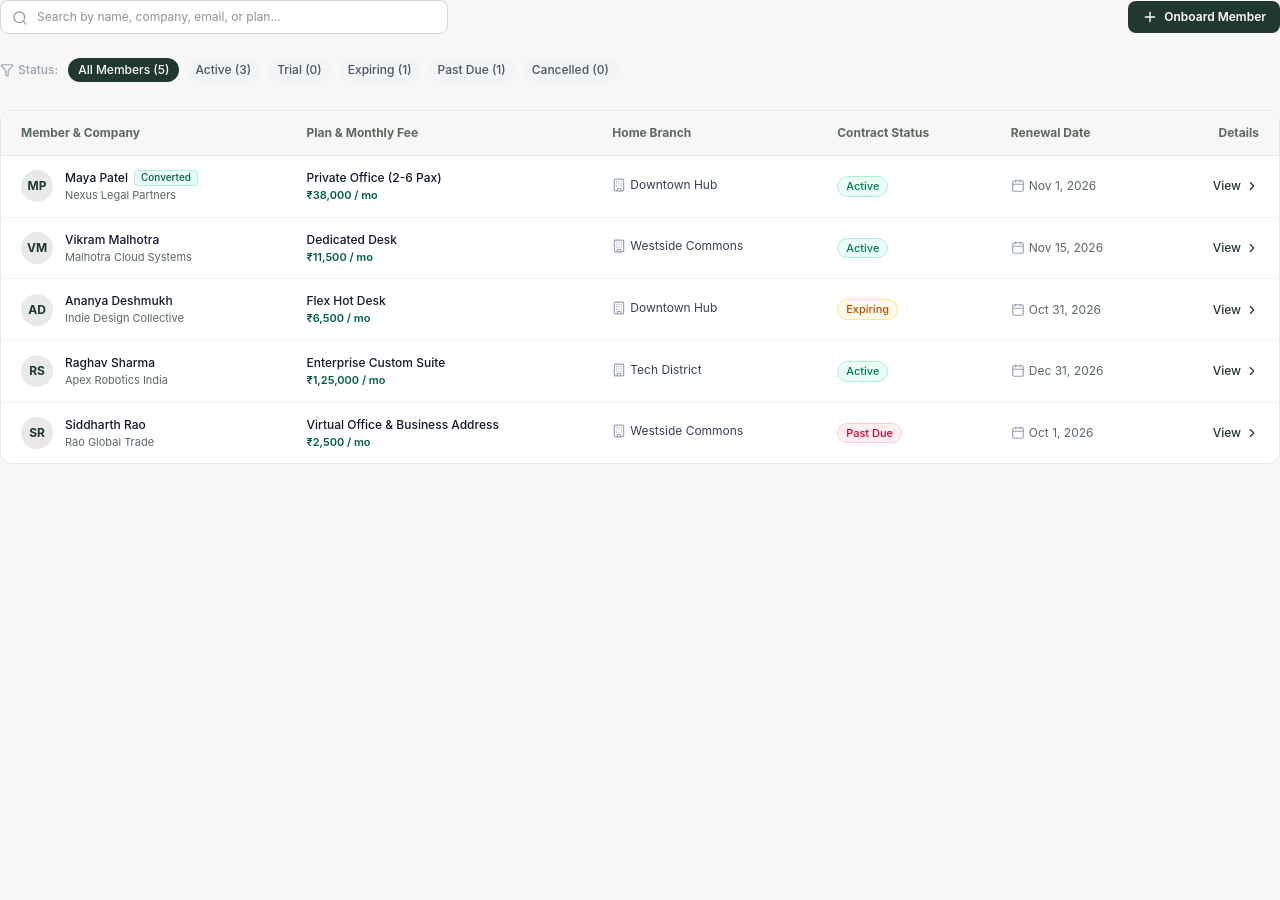
Test: MembersDirectory Component › opens member detail modal on row click
Click the text "Maya Patel". click: (132, 178)
box: [65,170,198,186]
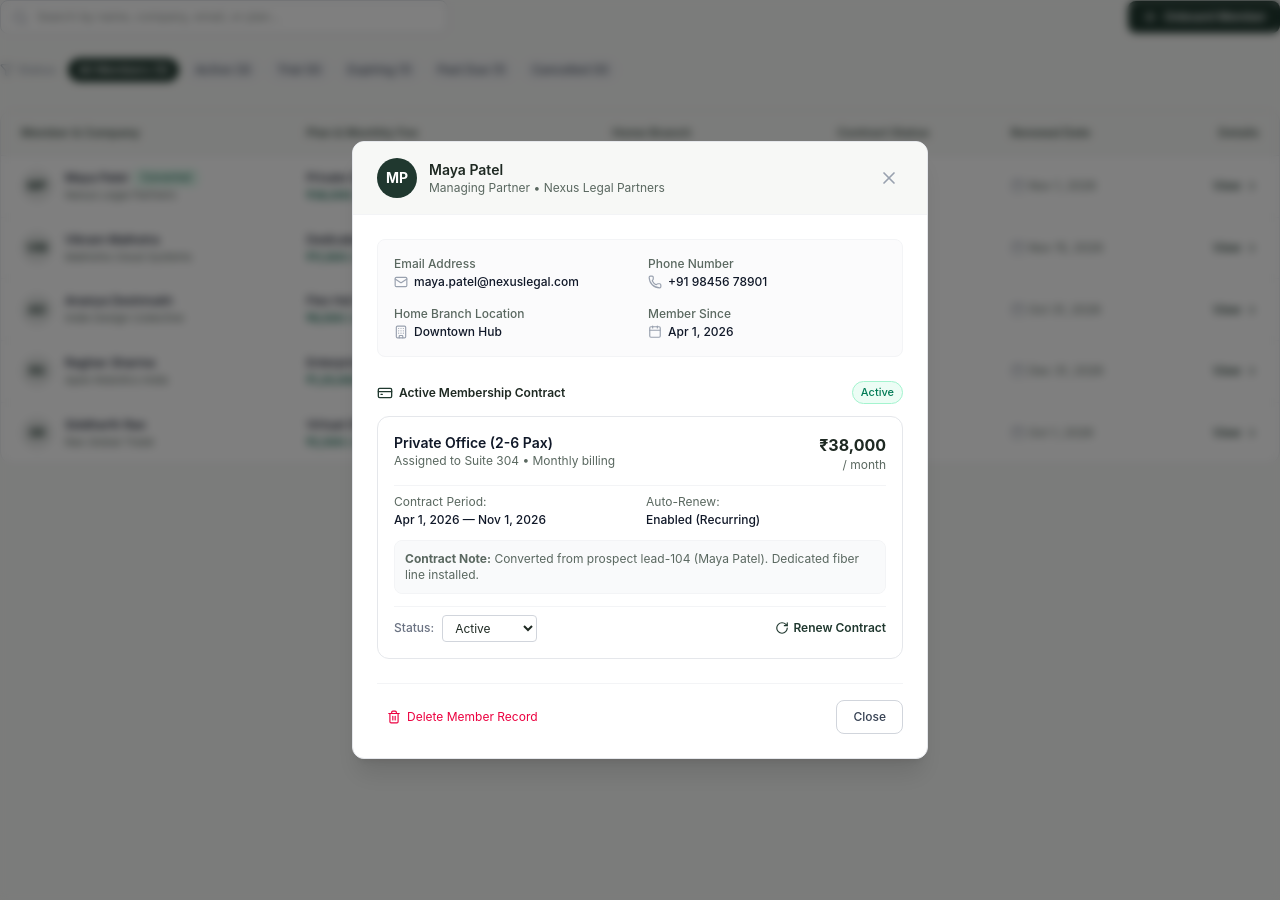
Now the heading "Active Membership Contract" is shown, box [377,384,565,400]
Now the text "Assigned to Suite 304 • Monthly billing" is shown, box [394,453,615,469]
